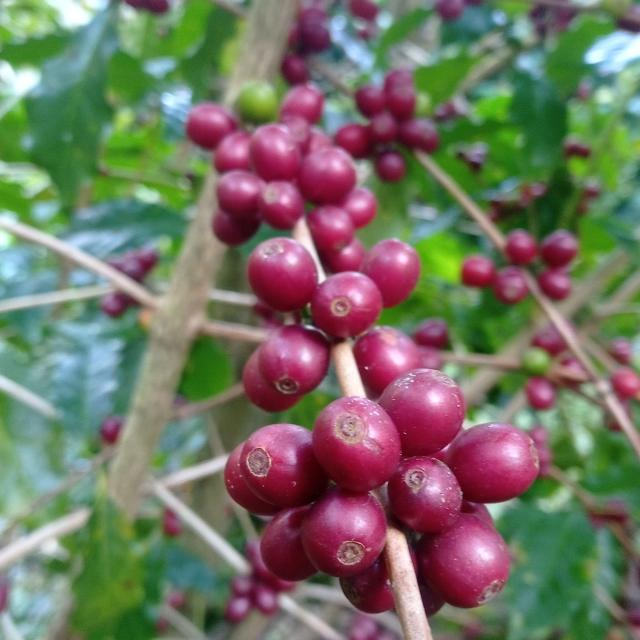Ripe: (417, 514, 511, 609), (313, 396, 402, 493), (301, 487, 386, 579), (379, 369, 467, 457), (445, 423, 540, 504), (240, 424, 329, 509), (388, 457, 463, 534), (247, 237, 318, 312), (354, 326, 424, 399), (259, 325, 330, 395), (311, 272, 384, 338), (261, 505, 318, 582), (360, 239, 422, 308), (224, 443, 281, 517), (242, 348, 303, 413), (298, 146, 356, 204), (339, 556, 395, 615), (249, 123, 302, 180), (185, 102, 238, 149), (216, 170, 266, 217), (258, 180, 305, 229), (307, 204, 355, 251), (280, 82, 325, 123), (238, 79, 278, 123), (212, 209, 259, 246), (339, 187, 378, 229), (214, 130, 250, 172)
